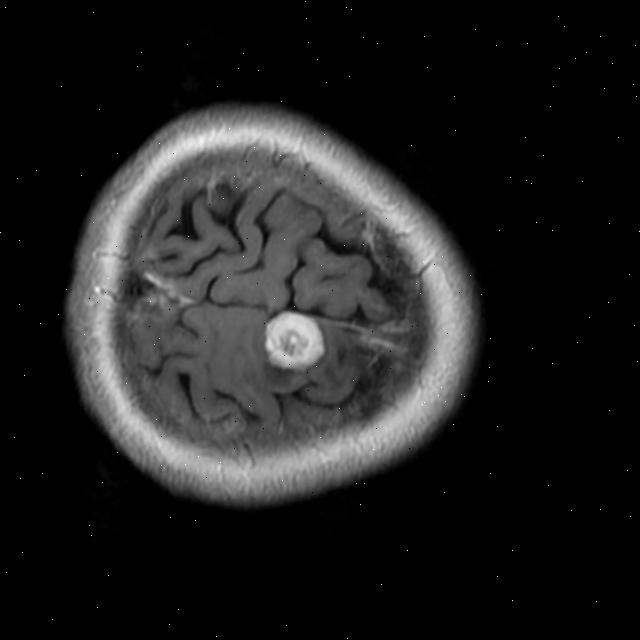Meningioma: (256, 304, 330, 381)
